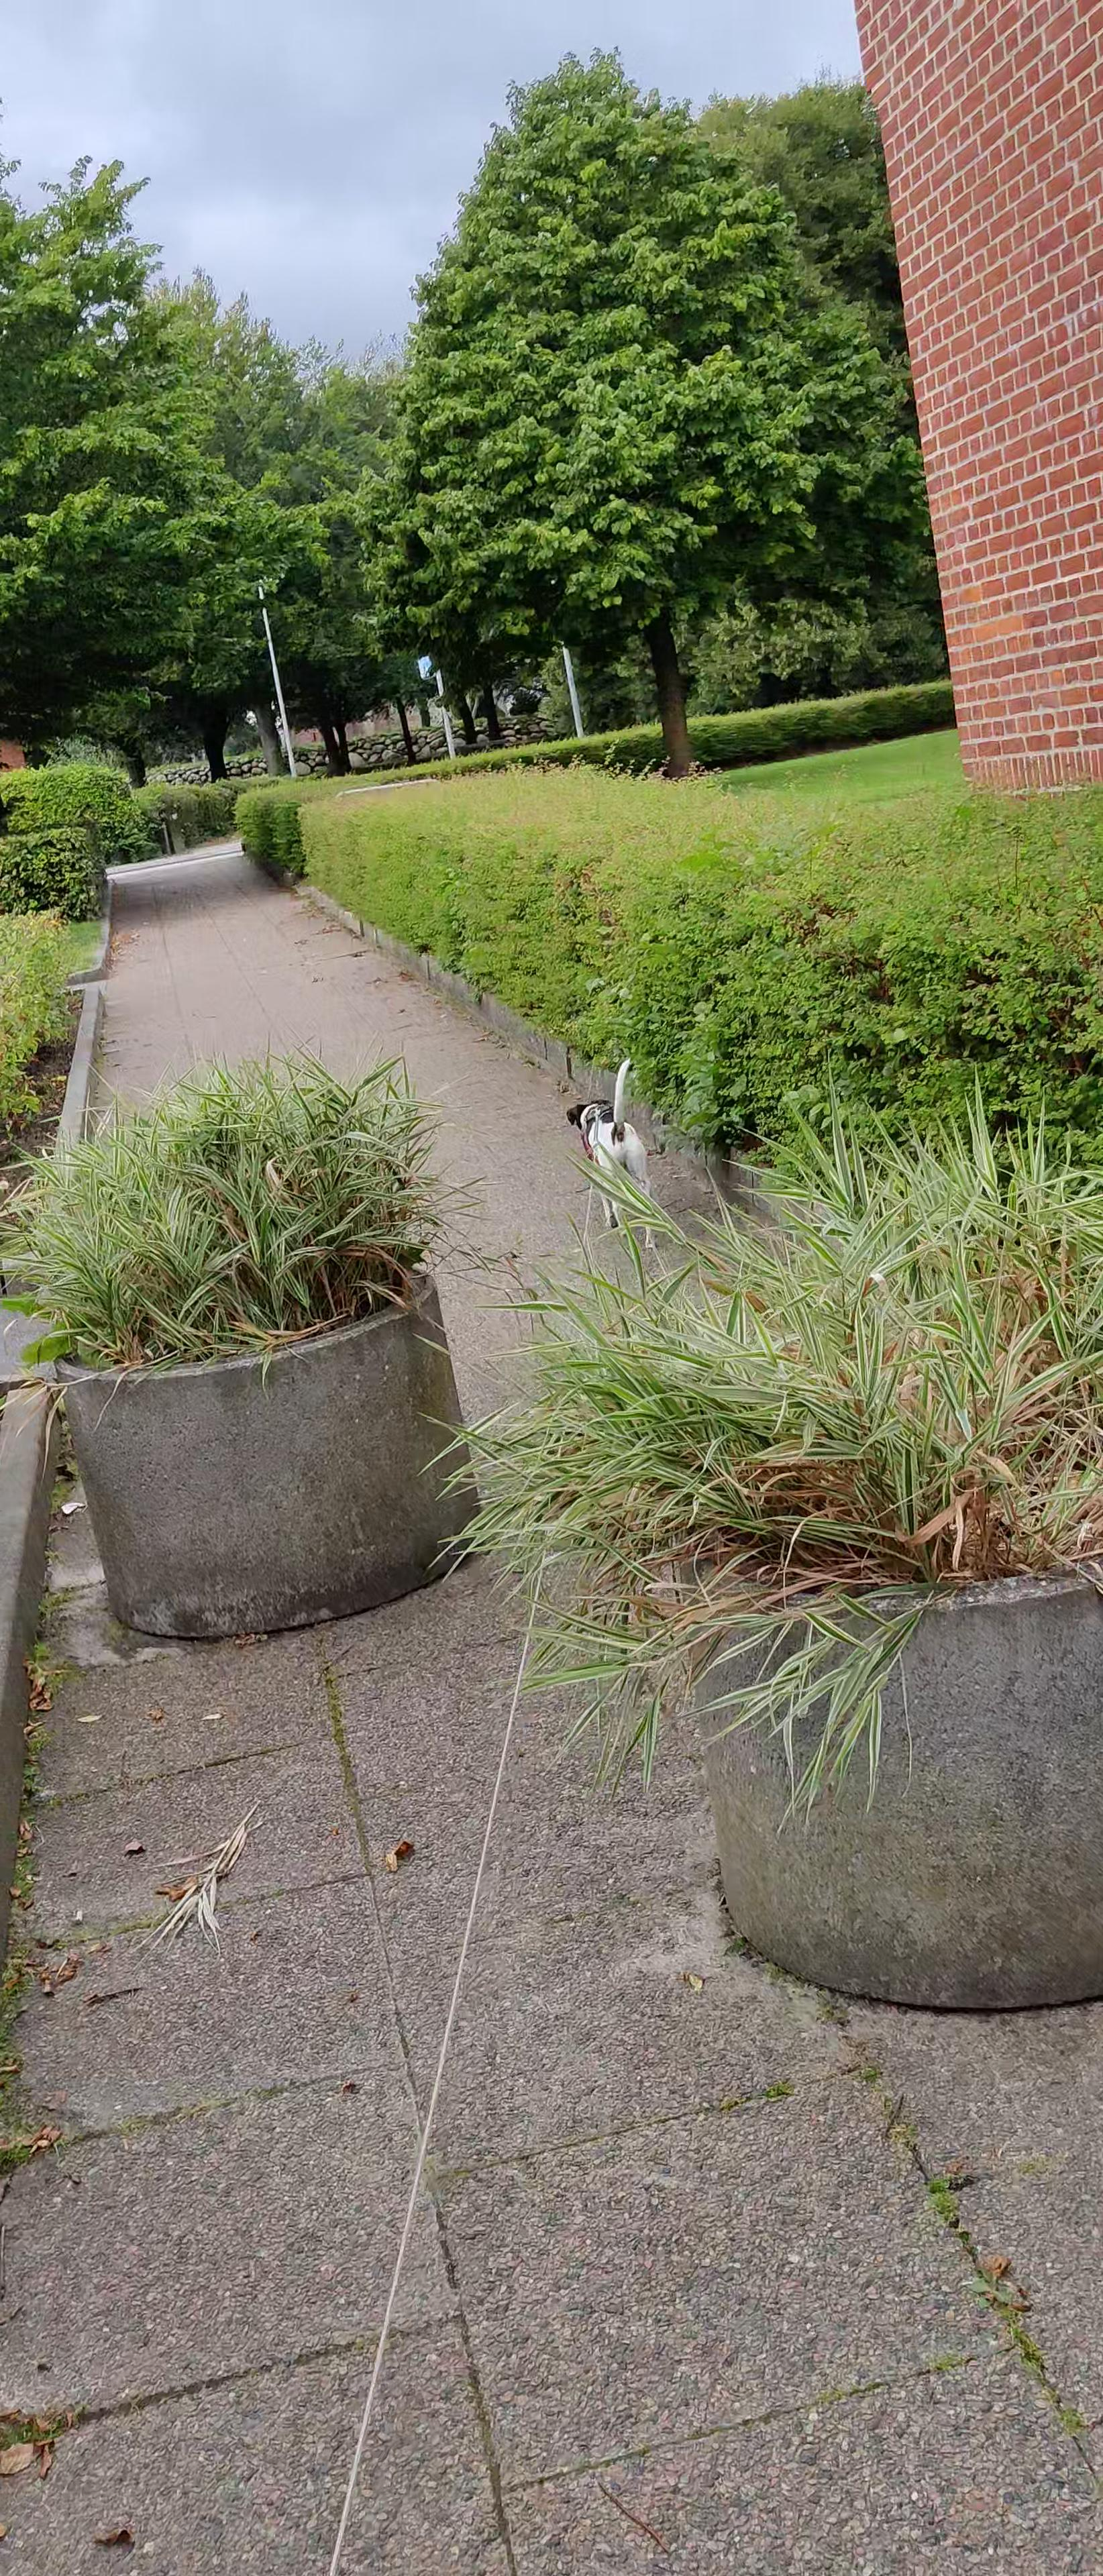Dog: (562, 1051, 661, 1252)
